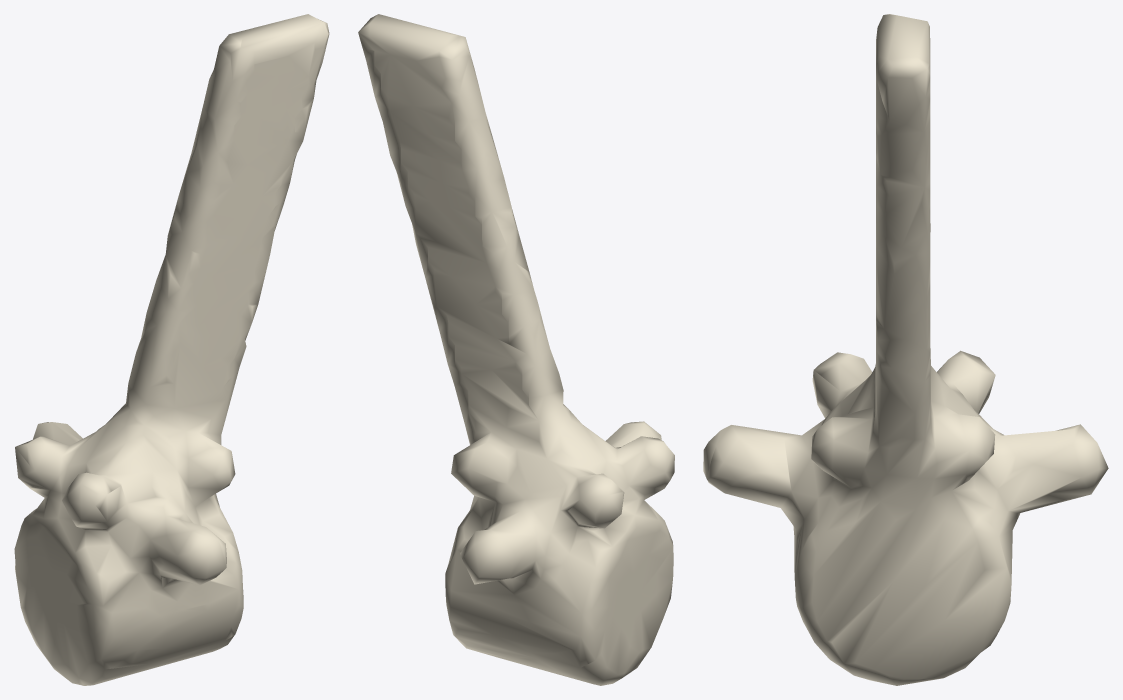
The model's file is thoracic_8.glb.
The picture shows the model from 3 angles, left to right: view 1: azimuth 30°, elevation 25°; view 2: azimuth 150°, elevation 25°; view 3: azimuth 270°, elevation 25°; orthographic projection. The views are drawn at different scales.
Parts seen in each view (by area): view 1: geometry_0; view 2: geometry_0; view 3: geometry_0.
Boxes of the visible parts, x1,y1,x2,y2 form: geometry_0: [14, 14, 329, 685]; geometry_0: [358, 14, 674, 685]; geometry_0: [703, 14, 1108, 685].
Bounding box in the file's own units: 0.1667 × 0.3411 × 0.1787.
